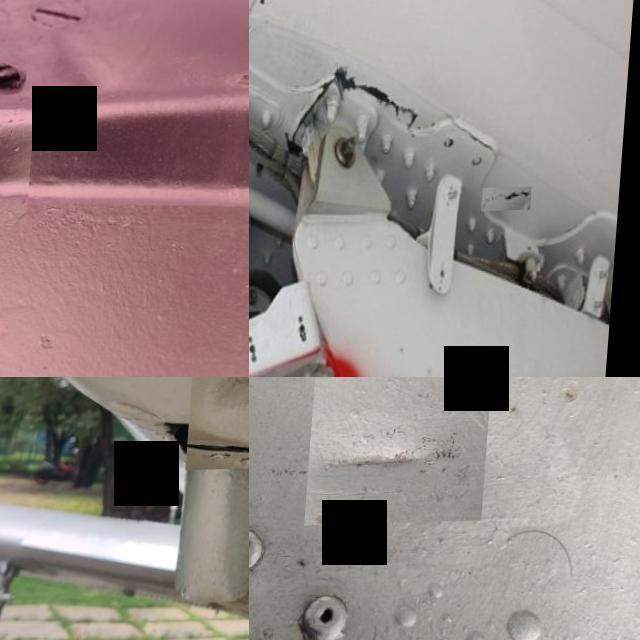Crack: (294, 69, 426, 158), (449, 115, 507, 164), (488, 191, 536, 214)
Dent: (309, 377, 495, 527), (0, 103, 39, 230)
